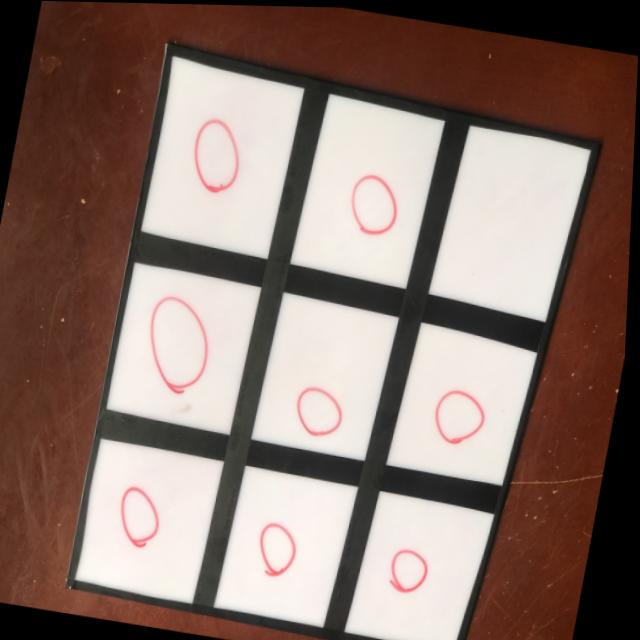null: (429, 117, 594, 323)
o: (137, 291, 224, 401), (187, 108, 250, 197), (344, 167, 406, 245), (429, 382, 496, 452), (290, 379, 352, 442), (119, 482, 172, 547), (257, 518, 309, 582), (391, 547, 438, 598)
table: (53, 49, 599, 640)
